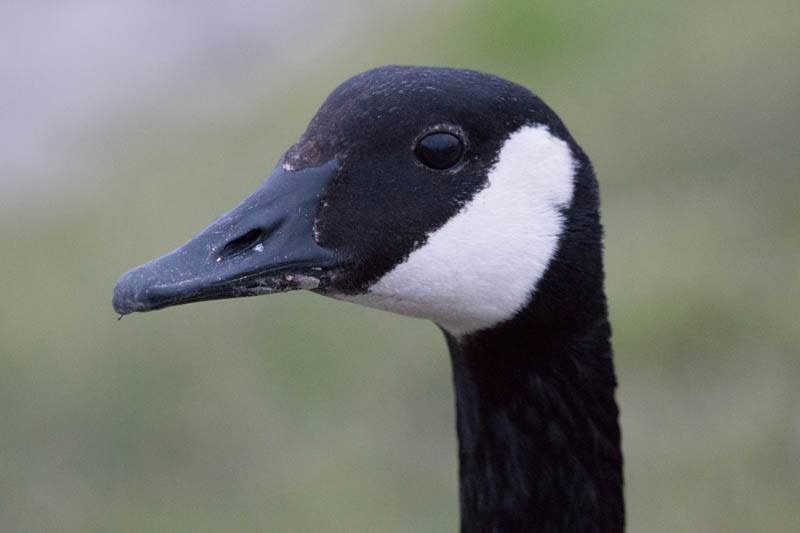goose-head: (110, 64, 605, 344)
